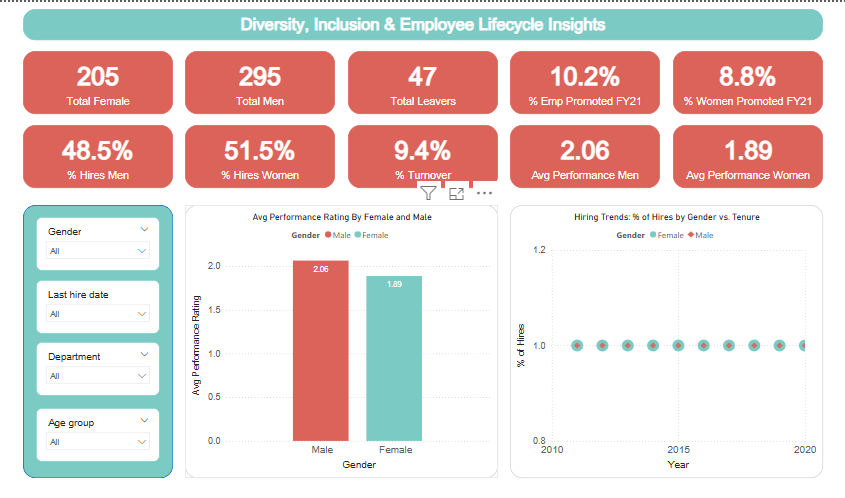

The page's visual inventory and layout, read from the dashboard file:
{"tool":"powerbi","page":{"name":"Page 1","canvas":[1400,800],"ordinal":0},"visuals":[{"type":"card","fields":{"Values":["Pharma Group AG.Total Men"]},"box":[320,78.4,240,100.8],"z":0},{"type":"card","fields":{"Values":["Pharma Group AG.Total Female"]},"box":[60,78.4,240,100.8],"z":1000},{"type":"card","fields":{"Values":["Pharma Group AG.Total Leavers"]},"box":[580,78.4,240,100.8],"z":2000},{"type":"card","fields":{"Values":["Pharma Group AG.% Employees Promoted FY21"]},"box":[840,78.4,240,100.8],"z":3000},{"type":"card","fields":{"Values":["Pharma Group AG.% Women Promoted FY21"]},"box":[1100,78.4,240,100.8],"z":4000},{"type":"card","fields":{"Values":["Pharma Group AG.% Hires Men"]},"box":[60.8,196.8,240,100.8],"z":5000},{"type":"card","fields":{"Values":["Pharma Group AG.% Hires Women"]},"box":[320,196.8,240,100.8],"z":6000},{"type":"card","fields":{"Values":["Pharma Group AG.% Turnover"]},"box":[580.8,196.8,240,100.8],"z":7000},{"type":"card","fields":{"Values":["Pharma Group AG.Average Performance Men"]},"box":[840,196.8,240,100.8],"z":8000},{"type":"card","fields":{"Values":["Pharma Group AG.Average Performance Women"]},"box":[1100.8,196.8,240,100.8],"z":9000},{"type":"columnChart","title":"Avg Performance Rating By Female and Male","fields":{"Category":["Pharma Group AG.Gender"],"Y":["Pharma Group AG.Avg Performance Rating"],"Series":["Pharma Group AG.Gender"]},"box":[320,324.8,500.8,436.8],"z":10000},{"type":"scatterChart","title":"Hiring Trends: % of Hires by Gender vs. Tenure","fields":{"Y":["Pharma Group AG.% of Hires"],"X":["Pharma Group AG.Last hire date.Variation.Date Hierarchy.Year"],"Series":["Pharma Group AG.Gender"]},"box":[840,324.8,500.8,436.8],"z":11000},{"type":"shape","box":[61,325,240,437],"z":12000},{"type":"slicer","fields":{"Values":["Pharma Group AG.Gender"]},"box":[81.6,344,198.4,86.4],"z":13000},{"type":"slicer","fields":{"Values":["Pharma Group AG.Last hire date"]},"box":[81.6,444.8,198.4,86.4],"z":14000},{"type":"slicer","fields":{"Values":["Pharma Group AG.Department @01.07.2020"]},"box":[81.6,544,198.4,86.4],"z":15000},{"type":"slicer","fields":{"Values":["Pharma Group AG.Age group"]},"box":[81.6,649.6,198.4,86.4],"z":16000},{"type":"textbox","box":[60.8,11.2,1280,50],"z":17000}]}

Visuals, with their boxes in screenshot pixels (x1, y1, x2, y2):
card - Pharma Group AG.Total Men: 184/51/332/113
card - Pharma Group AG.Total Female: 24/51/172/113
card - Pharma Group AG.Total Leavers: 345/51/493/113
card - Pharma Group AG.% Employees Promoted FY21: 505/51/653/113
card - Pharma Group AG.% Women Promoted FY21: 666/51/814/113
card - Pharma Group AG.% Hires Men: 24/124/172/186
card - Pharma Group AG.% Hires Women: 184/124/332/186
card - Pharma Group AG.% Turnover: 345/124/493/186
card - Pharma Group AG.Average Performance Men: 505/124/653/186
card - Pharma Group AG.Average Performance Women: 666/124/814/186
"Avg Performance Rating By Female and Male" columnChart: 184/203/493/472
"Hiring Trends: % of Hires by Gender vs. Tenure" scatterChart: 505/203/814/472
shape: 24/203/173/472
slicer - Pharma Group AG.Gender: 37/214/160/268
slicer - Pharma Group AG.Last hire date: 37/277/160/330
slicer - Pharma Group AG.Department @01.07.2020: 37/338/160/391
slicer - Pharma Group AG.Age group: 37/403/160/456
textbox: 24/9/814/40
